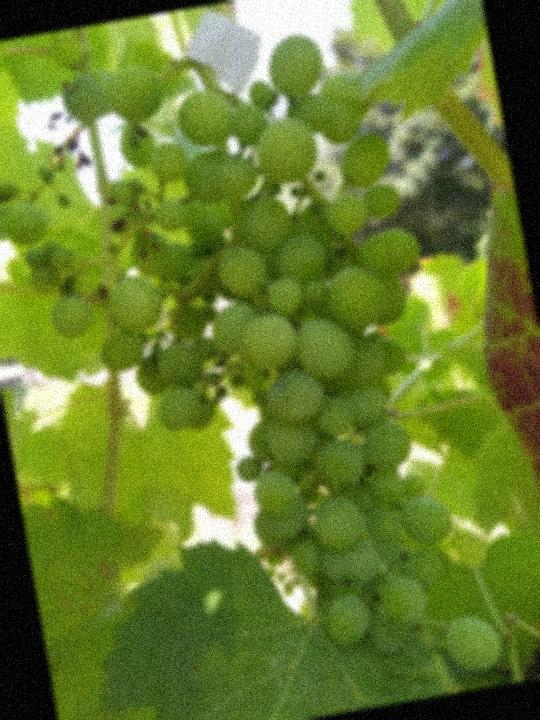grape: (0, 0, 507, 720)
